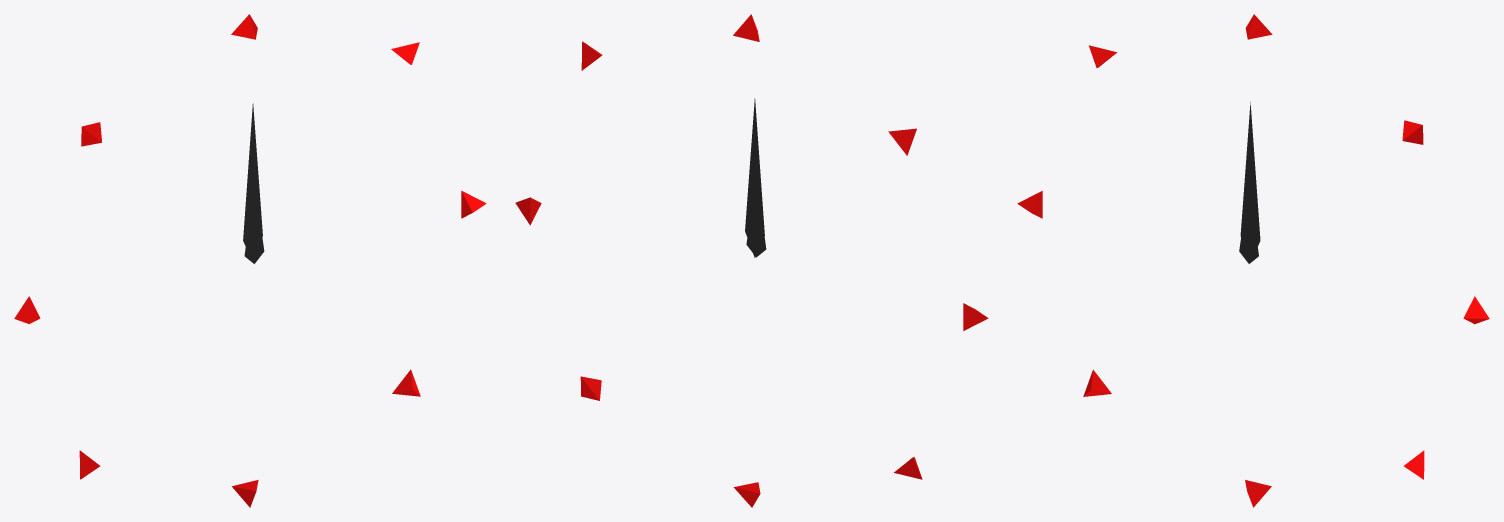
File: uvmd-0241.glb
3 renders of one model, left to right at view 1: azimuth 30°, elevation 25°; view 2: azimuth 150°, elevation 25°; view 3: azimuth 330°, elevation 25°, orthographic.
Visible parts, largest first — view 1: uvmd-0241; view 2: uvmd-0241; view 3: uvmd-0241.
Boxes of the visible parts, bbox=[...] form: uvmd-0241: bbox=[14, 14, 486, 507]; uvmd-0241: bbox=[515, 14, 988, 507]; uvmd-0241: bbox=[1017, 14, 1489, 507].
Bounding box in the file's own units: 5599 × 5586 × 273.
Materials: 1 (1 with a texture image).
